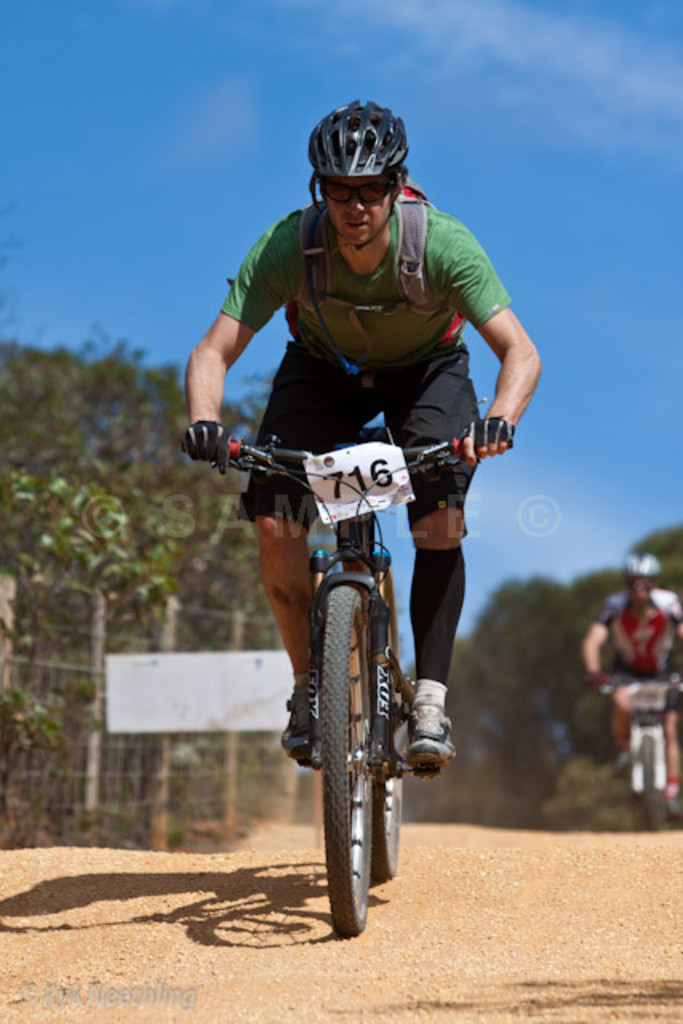Bike: (185, 415, 528, 940)
